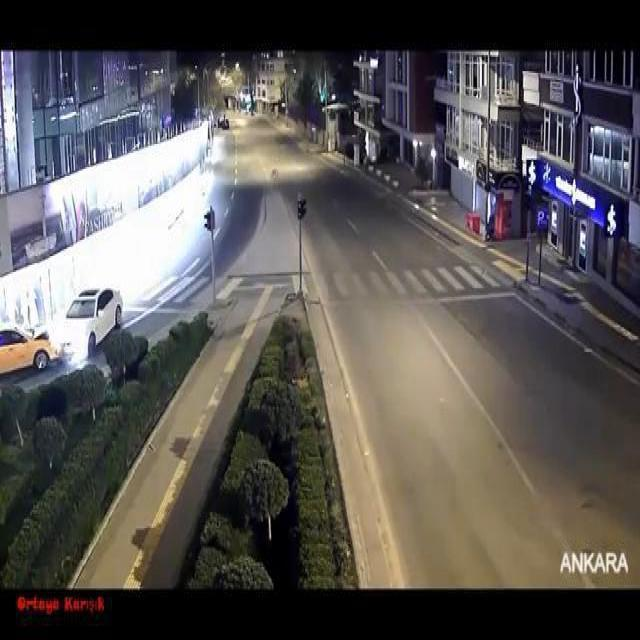moderate: (1, 284, 128, 386)
